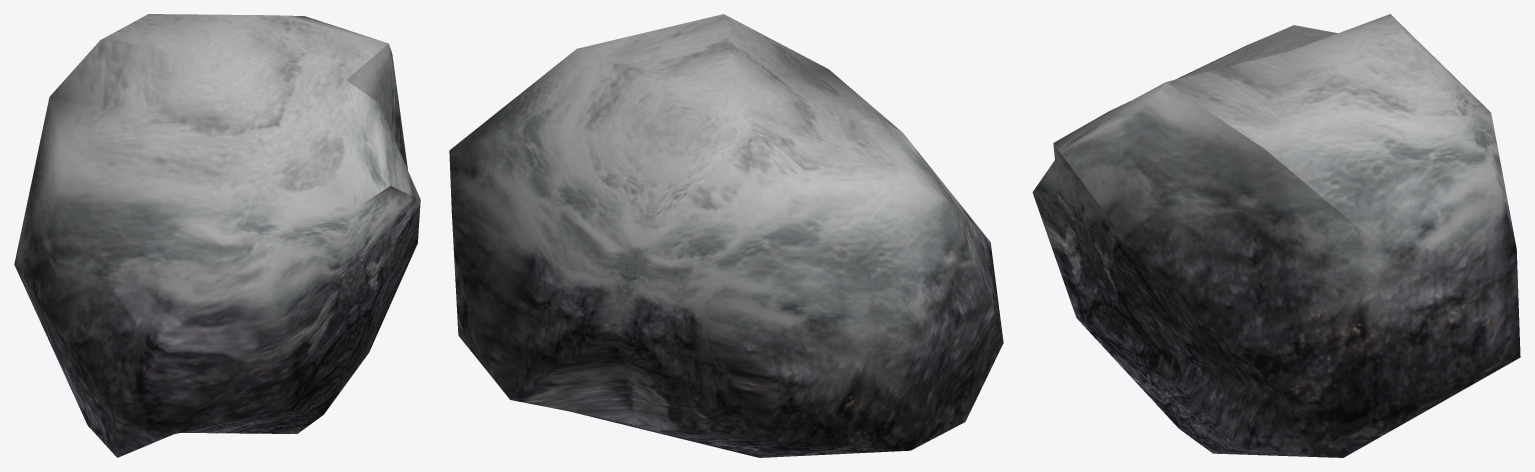
Rendered from snow_d_a08e.fbx.
The picture shows the model from 3 angles, left to right: view 1: azimuth 30°, elevation 25°; view 2: azimuth 150°, elevation 25°; view 3: azimuth 270°, elevation 25°; orthographic projection. The views are drawn at different scales.
Parts seen in each view (by area): view 1: d_a08e; view 2: d_a08e; view 3: d_a08e.
Boxes of the visible parts, x1,y1,x2,y2 form: d_a08e: (14,14,420,457); d_a08e: (449,14,1003,457); d_a08e: (1032,14,1520,457).
Size of the model in its own units: 135 by 112 by 127.
